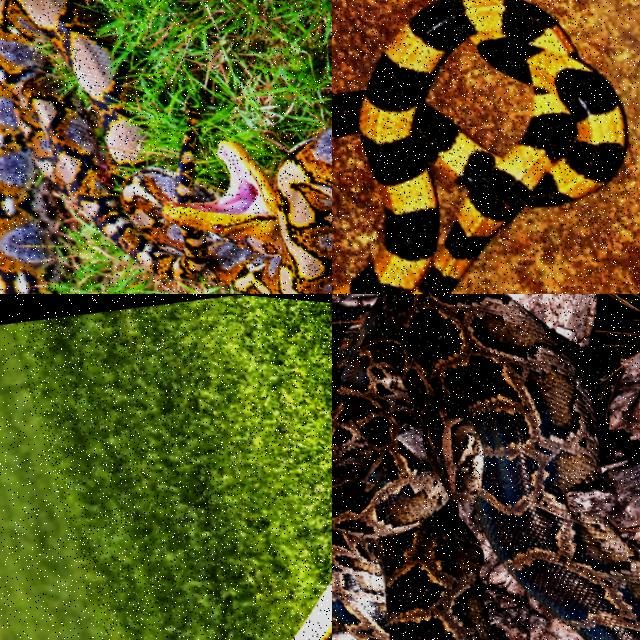Bungarus fasciatus: (332, 0, 625, 293)
Malayopython reticulatus: (0, 0, 331, 293)
Ophiophagus hannah: (292, 582, 331, 639)
Python bivittatus: (332, 294, 639, 639)
snake: (332, 294, 639, 639), (0, 0, 331, 293), (332, 0, 625, 293), (292, 582, 331, 639)
